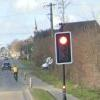traffic lights: (55, 32, 73, 64)
